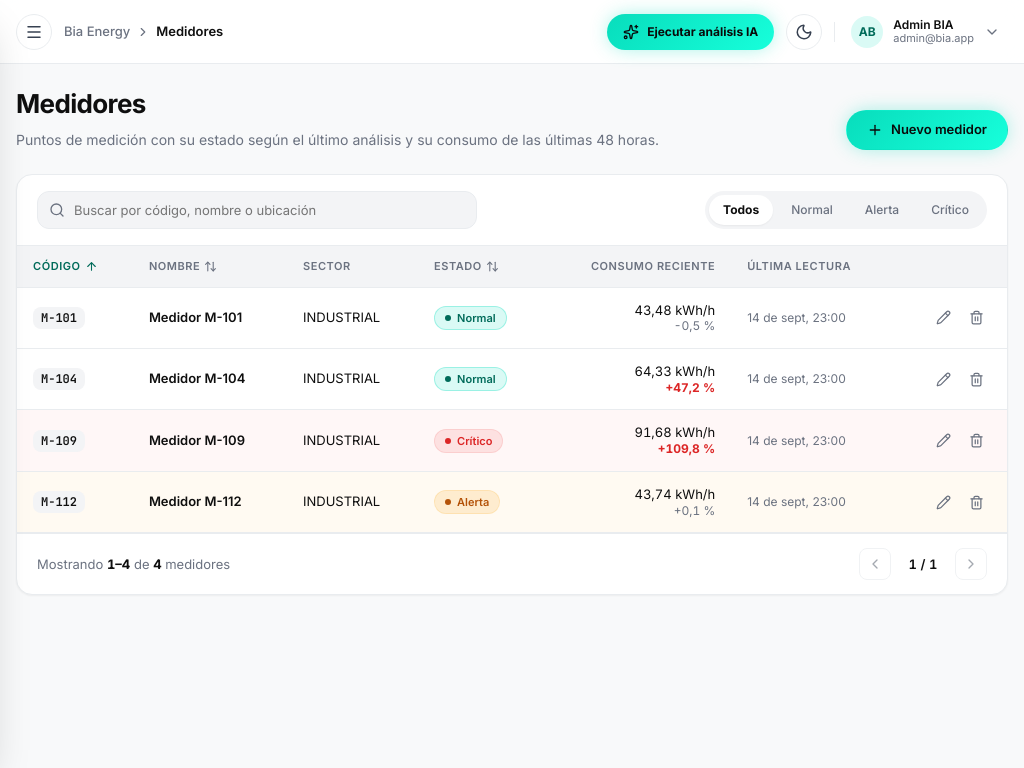
MetersPage › edits a meter without allowing to change its code
Click the button named "Editar M-109" at x=944, y=441, box x1=929 y1=426 x2=958 y2=455
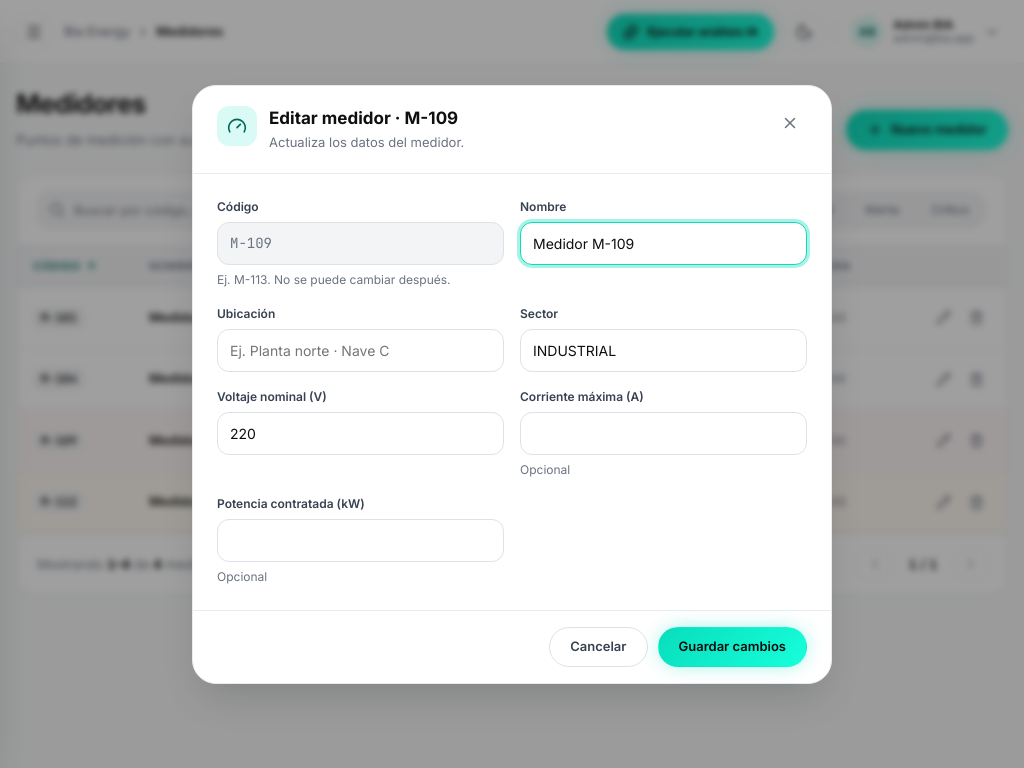
Expected: the field labelled "Código" is disabled, x1=217 y1=222 x2=504 y2=264
Replace the text in the field labelled "Nombre" with "Compresores norte" at x=664, y=243, box x1=520 y1=222 x2=807 y2=264
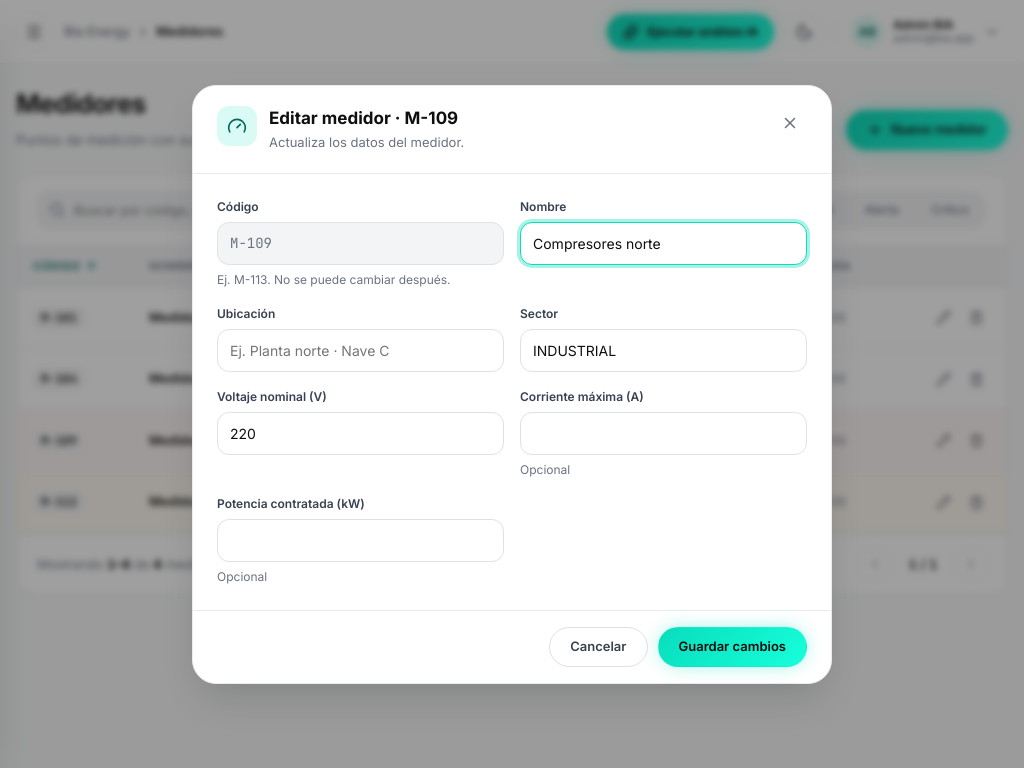
Click the button "Guardar cambios" at x=732, y=646, box x1=658 y1=626 x2=807 y2=666
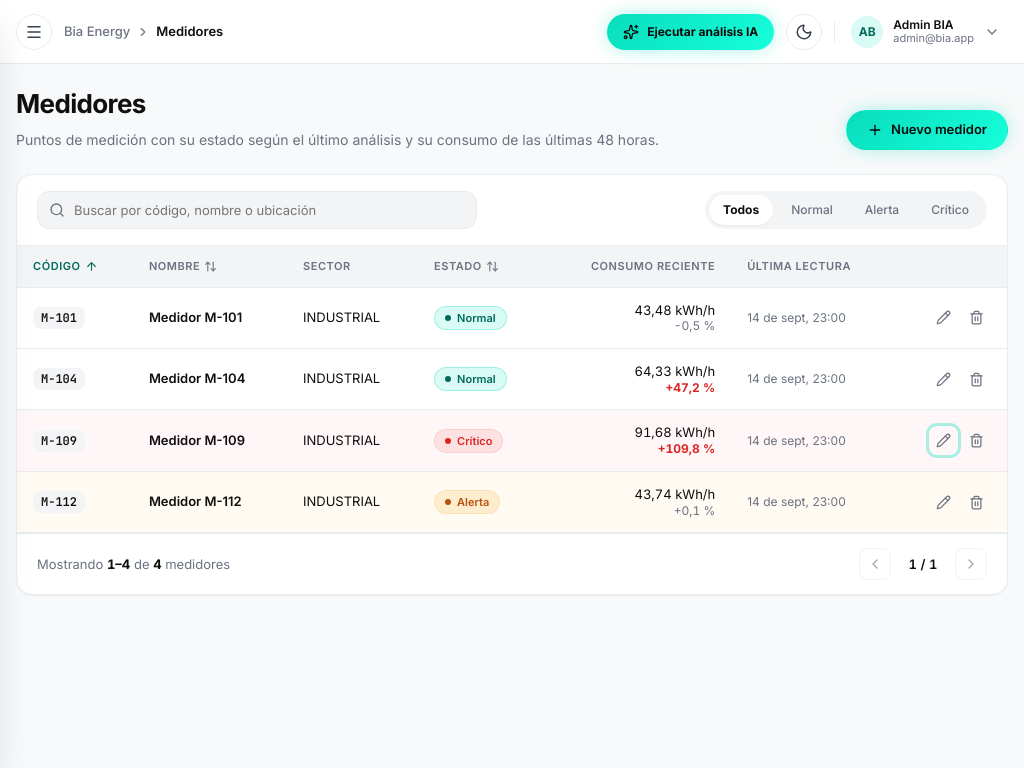
Expected: the dialog is gone
